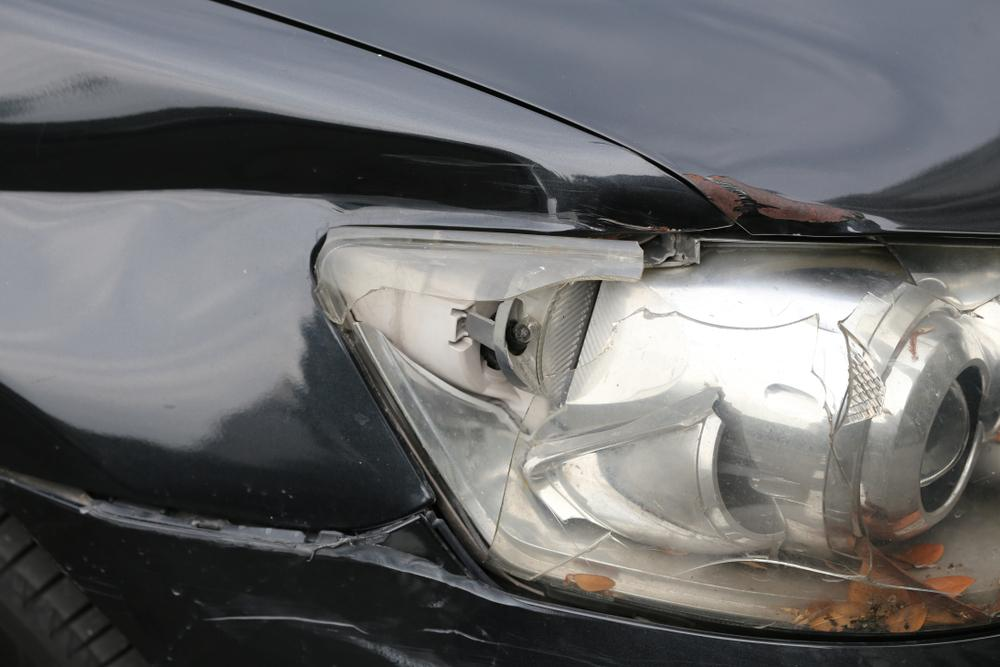lamp broken: (316, 228, 1000, 640)
